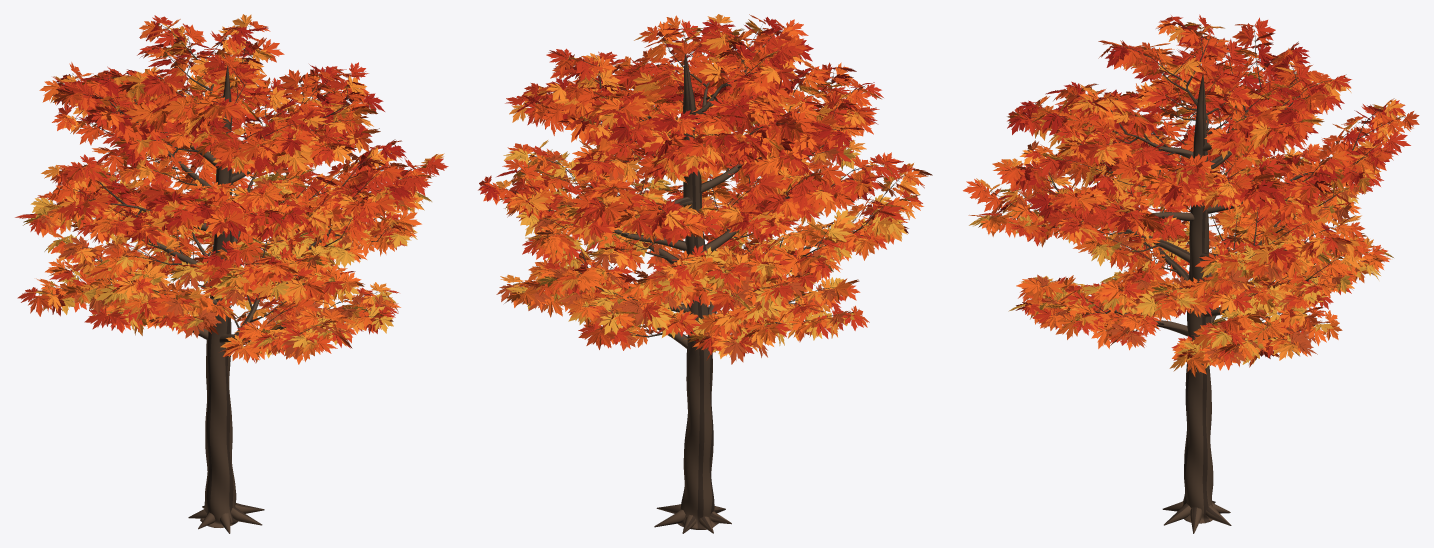
File: autumn-maple-upright-vase.glb
The picture shows the model from 3 angles, left to right: view 1: azimuth 30°, elevation 25°; view 2: azimuth 150°, elevation 25°; view 3: azimuth 270°, elevation 25°; orthographic projection. The views are drawn at different scales.
Visible parts, largest first — view 1: upright-vase-03-Seven-lobed-serrated-maple-leaves, upright-vase-01-Flared-trunk-and-scaffold, upright-vase-02-Connected-twigs-and-petioles; view 2: upright-vase-03-Seven-lobed-serrated-maple-leaves, upright-vase-01-Flared-trunk-and-scaffold, upright-vase-02-Connected-twigs-and-petioles; view 3: upright-vase-03-Seven-lobed-serrated-maple-leaves, upright-vase-01-Flared-trunk-and-scaffold, upright-vase-02-Connected-twigs-and-petioles.
Part boxes in pixels (x1,y1,x2,y2): upright-vase-03-Seven-lobed-serrated-maple-leaves: [15, 14, 448, 364]; upright-vase-01-Flared-trunk-and-scaffold: [111, 66, 340, 533]; upright-vase-02-Connected-twigs-and-petioles: [36, 24, 426, 348]; upright-vase-03-Seven-lobed-serrated-maple-leaves: [478, 14, 932, 364]; upright-vase-01-Flared-trunk-and-scaffold: [554, 53, 823, 533]; upright-vase-02-Connected-twigs-and-petioles: [499, 21, 904, 340]; upright-vase-03-Seven-lobed-serrated-maple-leaves: [963, 14, 1419, 376]; upright-vase-01-Flared-trunk-and-scaffold: [1101, 74, 1313, 533]; upright-vase-02-Connected-twigs-and-petioles: [987, 24, 1404, 356].
Size of the model in its own units: 7.19 by 8.58 by 7.63.
